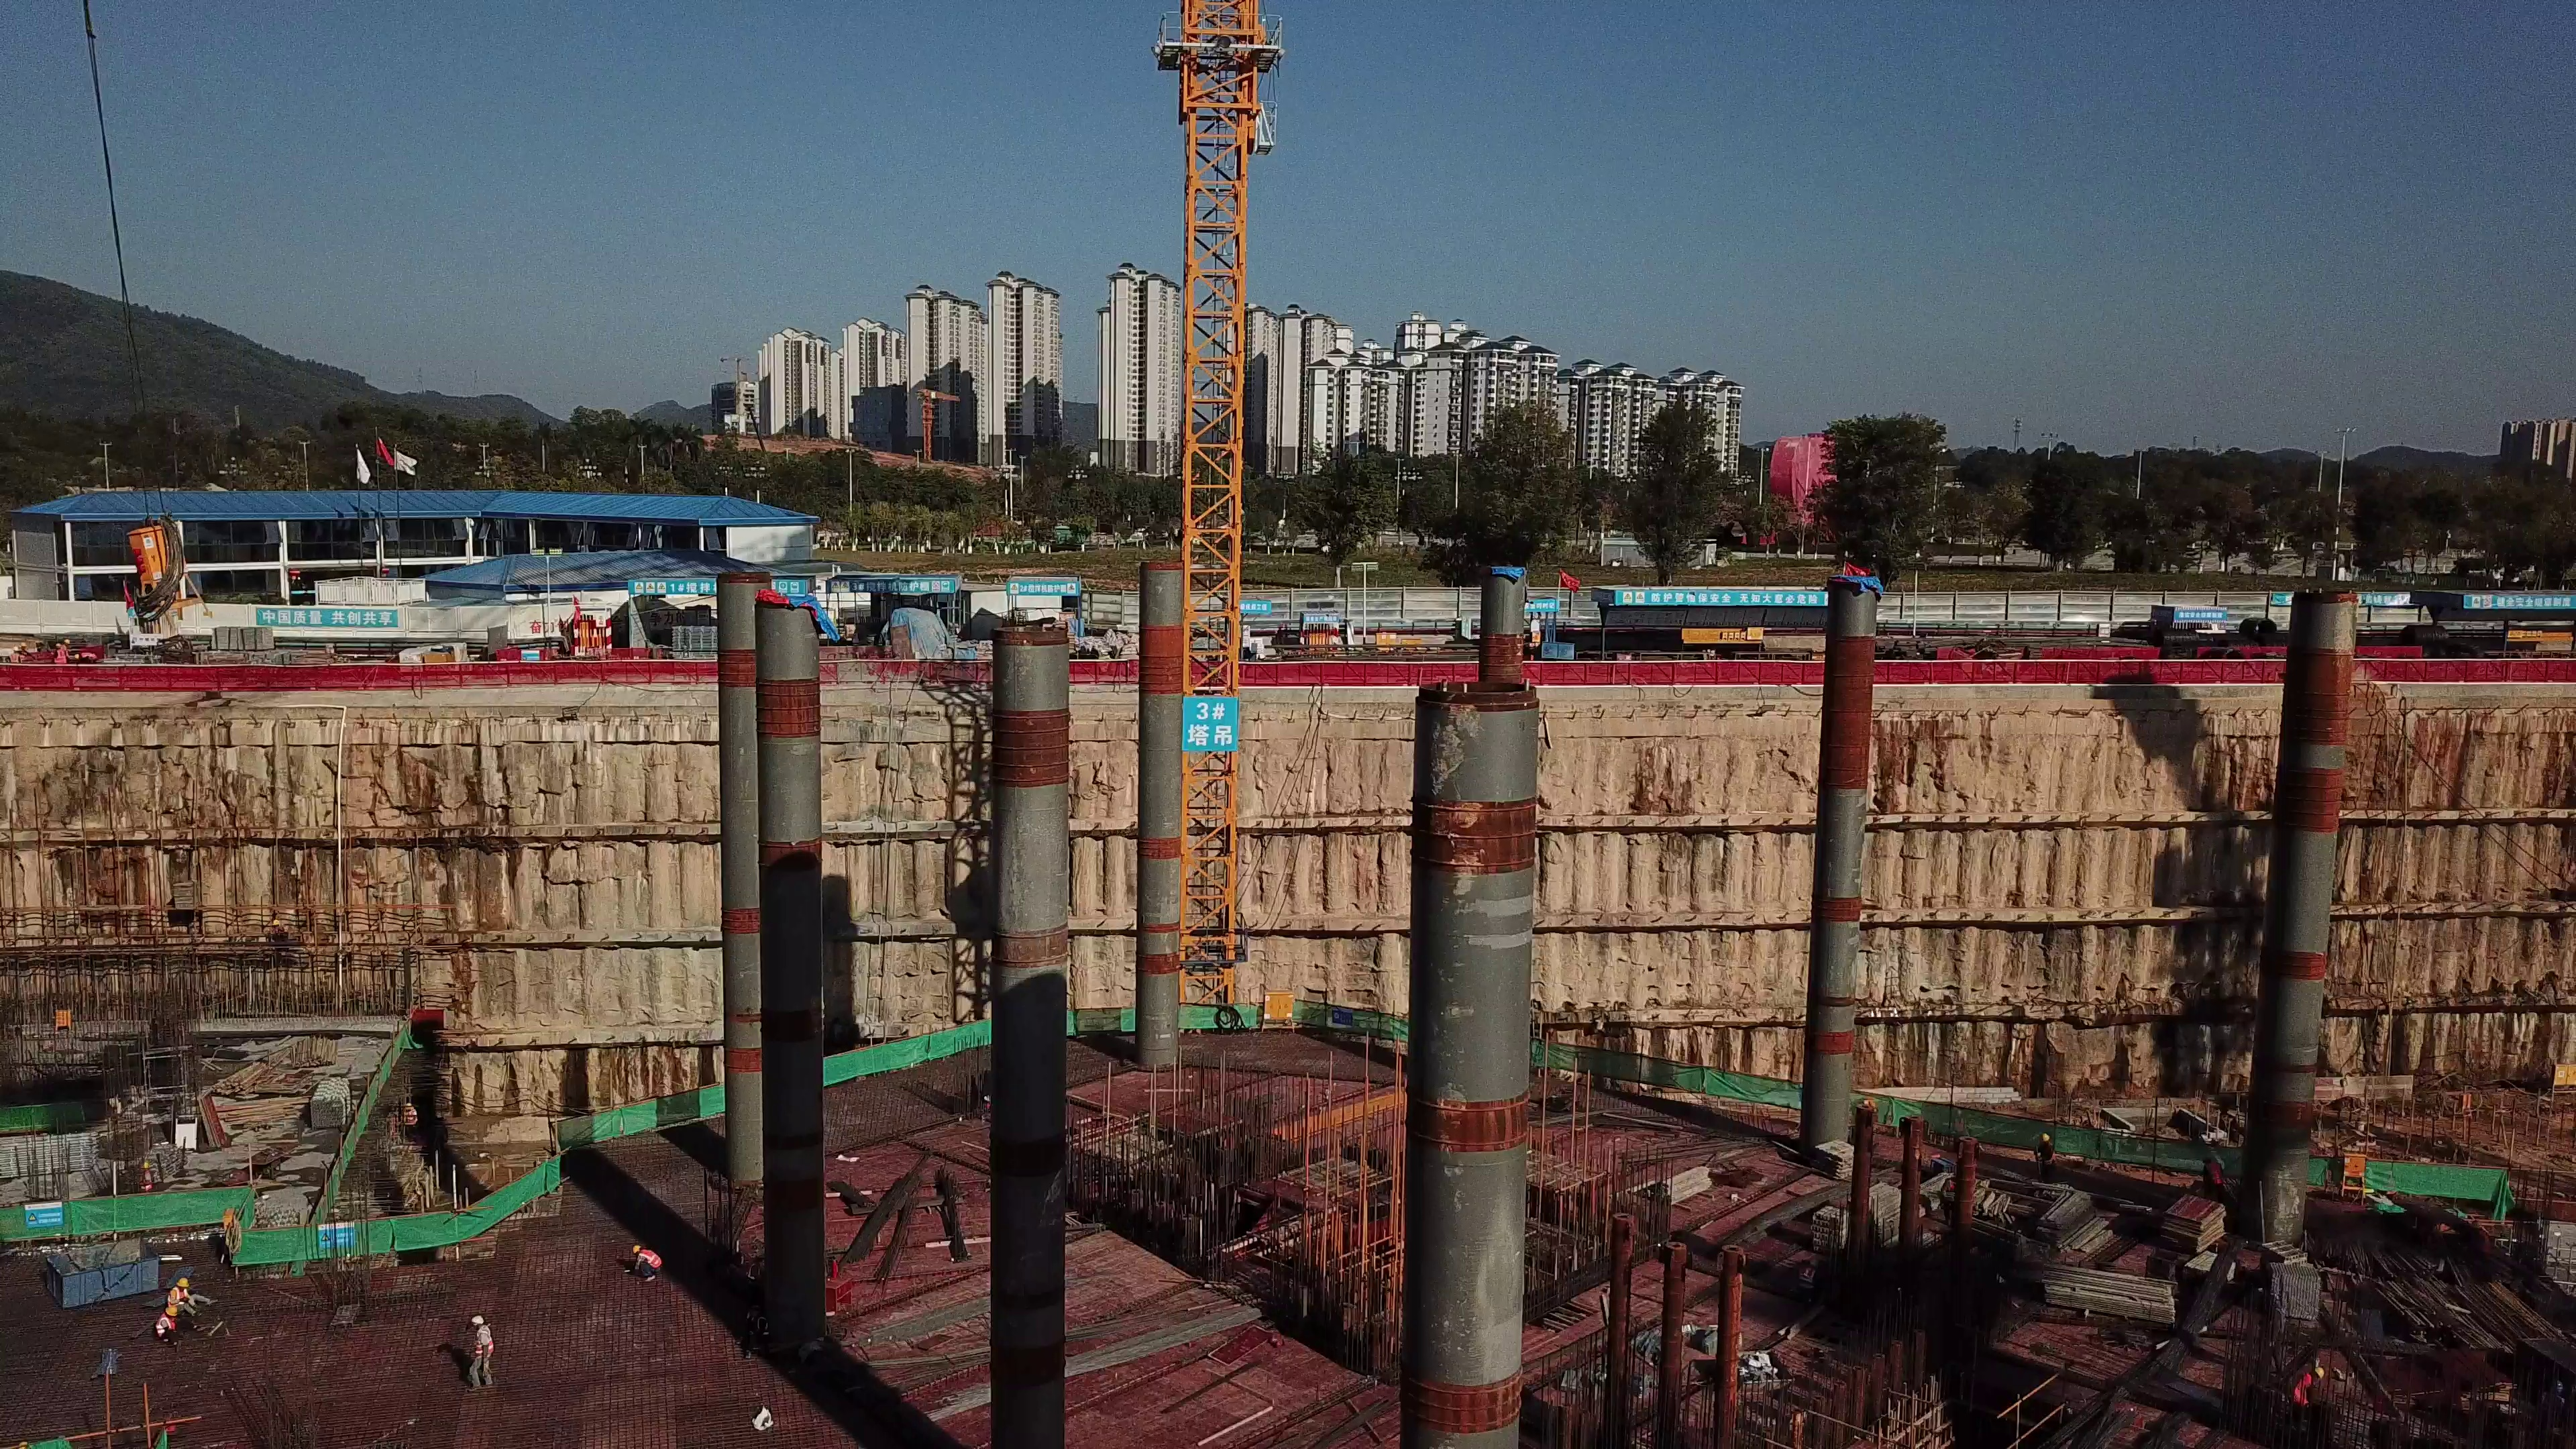board: (2168, 1198, 2227, 1242)
brick: (216, 625, 277, 657)
ebox: (125, 519, 207, 624), (2337, 1147, 2375, 1207), (1262, 985, 1297, 1029), (2548, 1053, 2576, 1093)
fence: (348, 641, 756, 703), (1937, 655, 2264, 689)
helmet: (2312, 1363, 2328, 1384), (2039, 1129, 2053, 1142), (165, 1306, 180, 1318), (632, 1244, 644, 1254), (177, 1278, 191, 1285), (137, 1160, 150, 1168), (472, 1317, 484, 1324), (271, 920, 280, 926)
hopper: (53, 1237, 153, 1311)
person: (464, 1314, 500, 1399), (2288, 1362, 2333, 1421), (631, 1242, 665, 1285), (2035, 1128, 2065, 1177), (2199, 1151, 2229, 1199), (162, 1277, 207, 1304), (154, 1307, 187, 1342), (266, 915, 294, 942), (402, 1095, 419, 1134), (54, 637, 74, 663), (7, 646, 21, 667)
rebar: (1903, 629, 2157, 655)
scaffold: (1, 1138, 105, 1179), (303, 1079, 364, 1146)
slogan: (1617, 570, 1841, 612), (632, 573, 812, 596), (1179, 699, 1244, 755), (2273, 590, 2412, 612), (258, 612, 401, 630), (2467, 593, 2576, 612), (845, 577, 957, 595), (2176, 608, 2234, 627), (1519, 595, 1559, 621), (1010, 580, 1076, 596)
vest: (156, 1318, 179, 1341), (2035, 1144, 2057, 1165), (476, 1325, 492, 1357), (2295, 1373, 2312, 1402), (642, 1250, 665, 1269), (402, 1109, 417, 1126), (167, 1289, 189, 1300)
wood: (2043, 1264, 2180, 1325), (213, 1045, 301, 1136)
